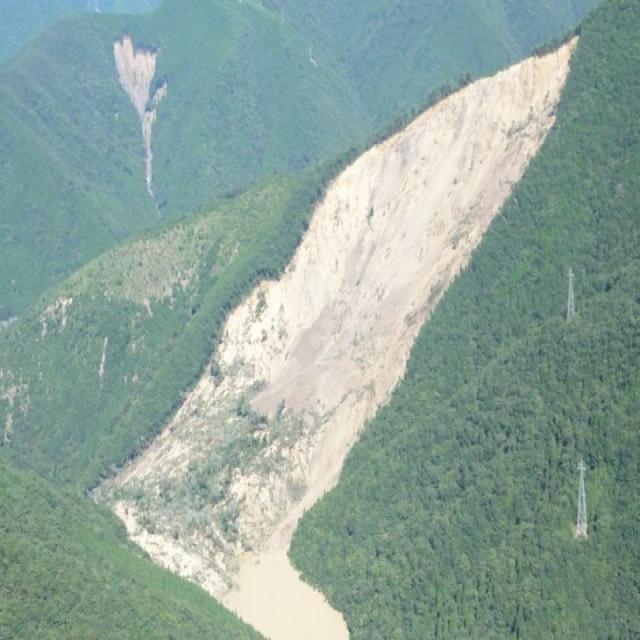Debris-flow: (94, 38, 576, 637), (114, 35, 168, 216), (115, 37, 156, 111)
